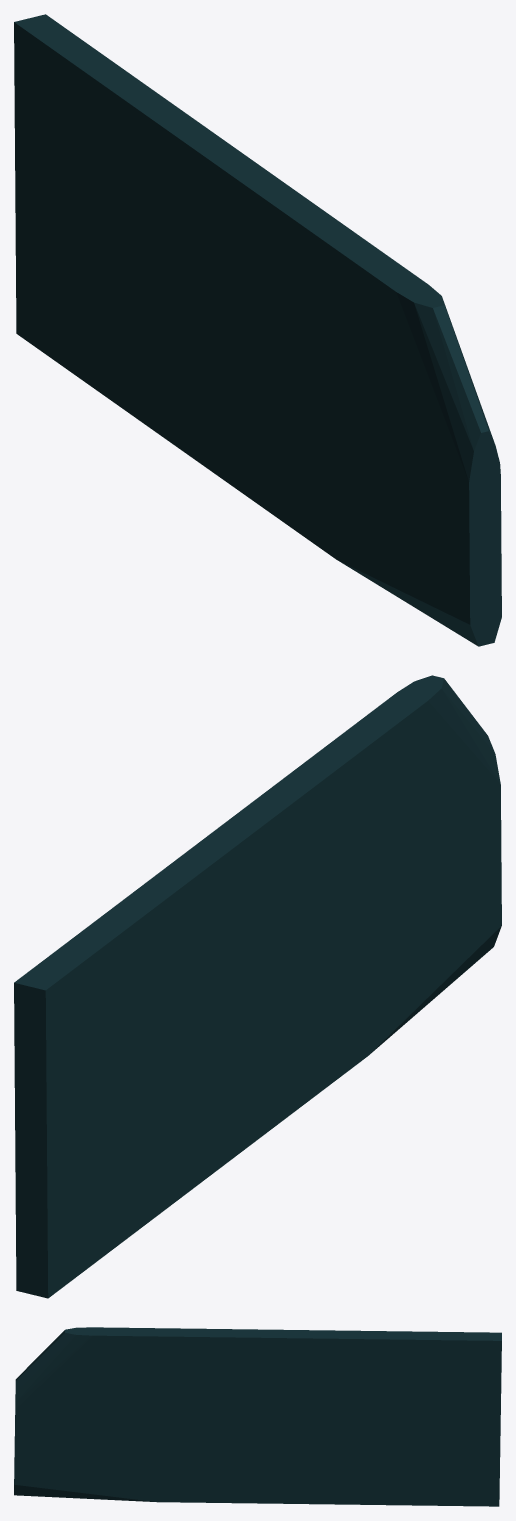
Rendered from converted_Downdraft_Assy_collision_50_123138ff.obj.
3 renders of one model, top to bottom at view 1: azimuth 30°, elevation 25°; view 2: azimuth 150°, elevation 25°; view 3: azimuth 270°, elevation 25°, orthographic. The views are drawn at different scales.
Bounding box in the file's own units: 0.0177 × 0.1704 × 0.4399.
